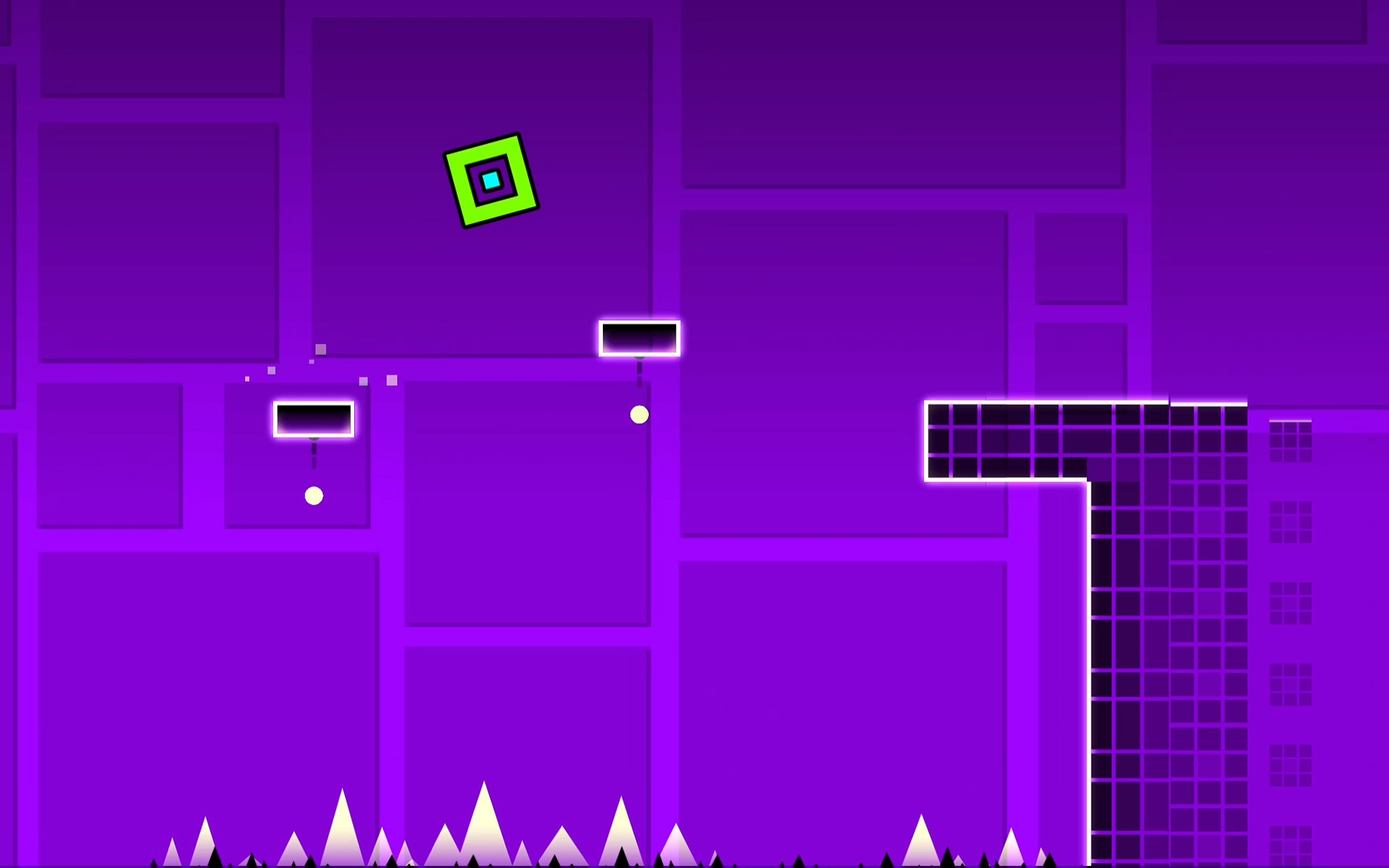Block2: (1089, 404, 1320, 868), (924, 400, 1089, 478)
Block3: (599, 318, 685, 356), (272, 400, 355, 436)
Player: (444, 132, 538, 228)
